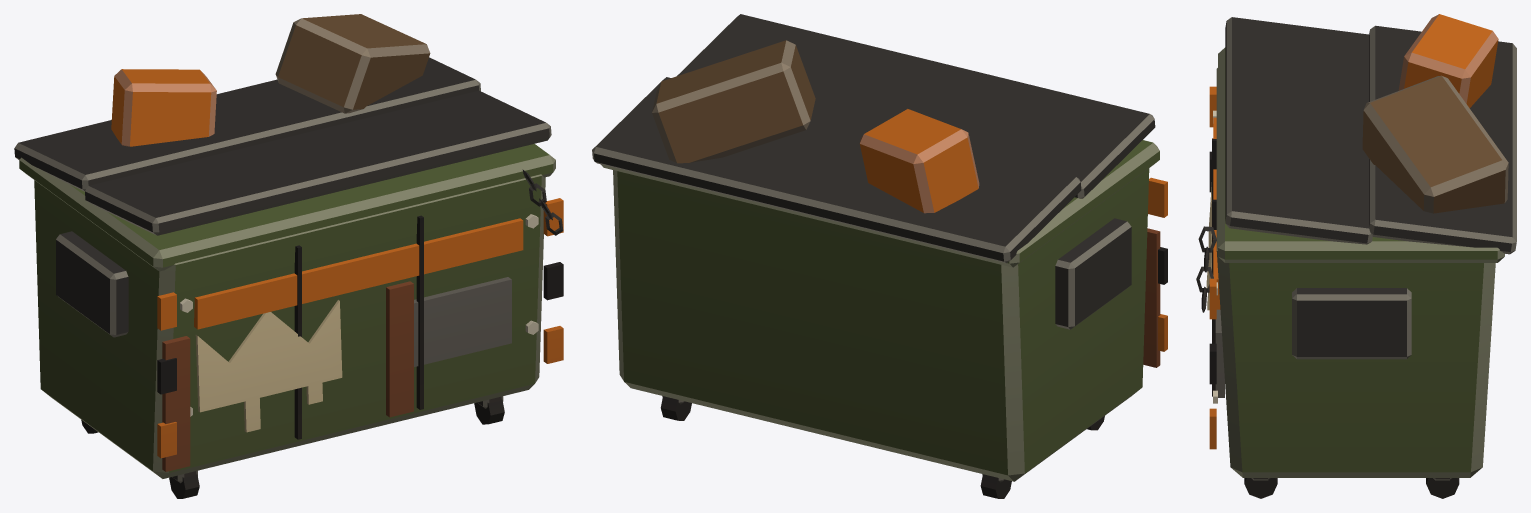
File: c_dumpster.glb
3 views of the same model, side by side, from view 1: azimuth 30°, elevation 25°; view 2: azimuth 150°, elevation 25°; view 3: azimuth 270°, elevation 25° (orthographic). The views are drawn at different scales.
Parts seen in each view (by area): view 1: c_dumpster; view 2: c_dumpster; view 3: c_dumpster.
Boxes of the visible parts, <box> form: c_dumpster: <box>14,14,563,498</box>; c_dumpster: <box>592,14,1167,498</box>; c_dumpster: <box>1196,14,1516,498</box>.
Size of the model in its own units: 2.06 by 1.71 by 1.34.
